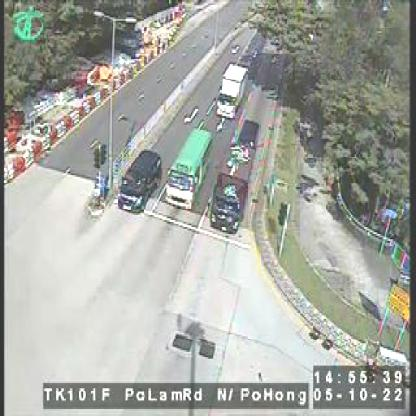Car: (116, 149, 160, 210)
Minibus: (164, 126, 212, 212)
Truck: (208, 139, 255, 232), (216, 64, 244, 118)
